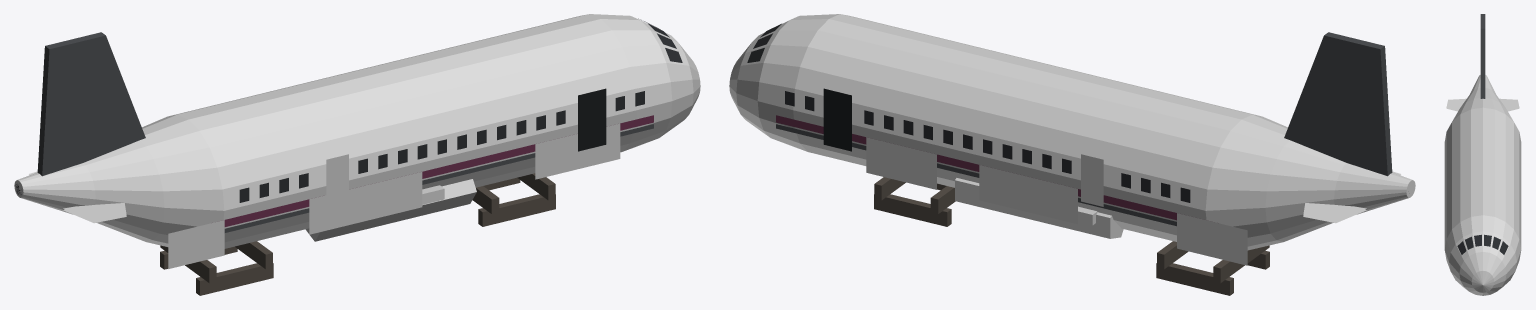
Rendered from fuselage.glb.
The picture shows the model from 3 angles, left to right: view 1: azimuth 30°, elevation 25°; view 2: azimuth 150°, elevation 25°; view 3: azimuth 270°, elevation 25°; orthographic projection. The views are drawn at different scales.
Parts seen in each view (by area): view 1: fuselage; view 2: fuselage; view 3: fuselage.
Boxes of the visible parts, bbox=[...] form: fuselage: bbox=[14, 14, 700, 295]; fuselage: bbox=[729, 14, 1415, 295]; fuselage: bbox=[1444, 14, 1521, 295].
Size of the model in its own units: 24 by 9 by 4.45.
